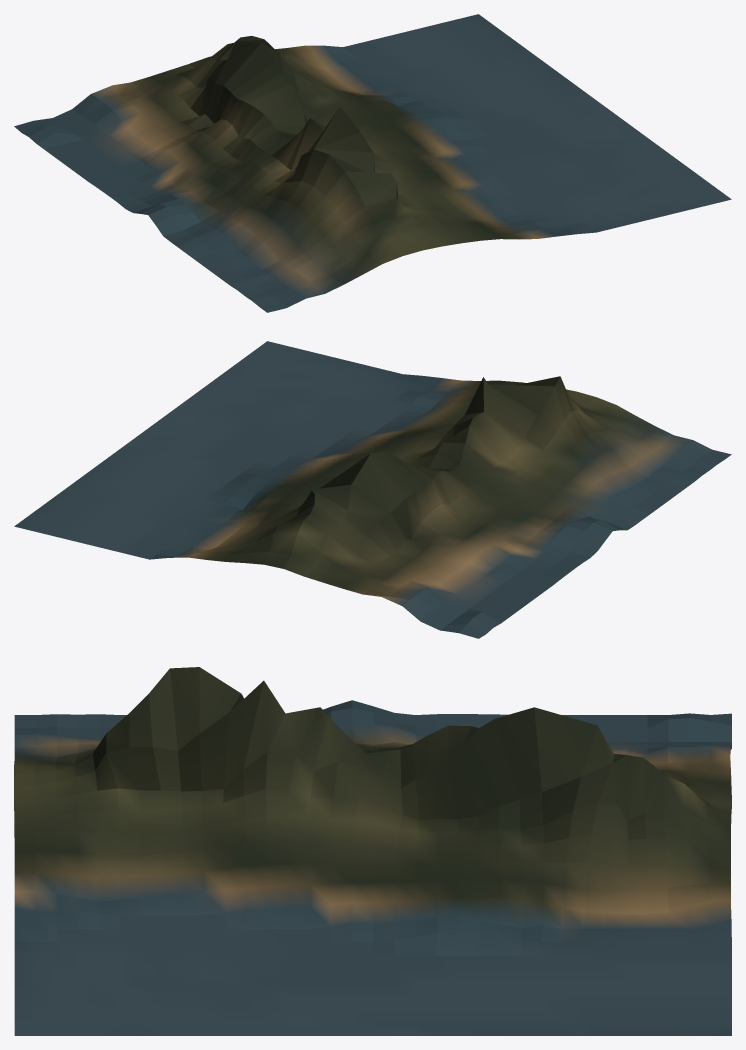
The model's file is MAPA FONDO 2.glb.
3 views of the same model, one above another, from view 1: azimuth 30°, elevation 25°; view 2: azimuth 150°, elevation 25°; view 3: azimuth 270°, elevation 25° (orthographic). The views are drawn at different scales.
Visible parts, largest first — view 1: MAPA FONDO 4 Y 5; view 2: MAPA FONDO 4 Y 5; view 3: MAPA FONDO 4 Y 5.
Boxes of the visible parts, x1,y1,x2,y2 form: MAPA FONDO 4 Y 5: (14, 14, 731, 312); MAPA FONDO 4 Y 5: (14, 341, 731, 638); MAPA FONDO 4 Y 5: (14, 667, 731, 1035).
Bounding box in the file's own units: 44.45 × 9.4 × 42.03.
